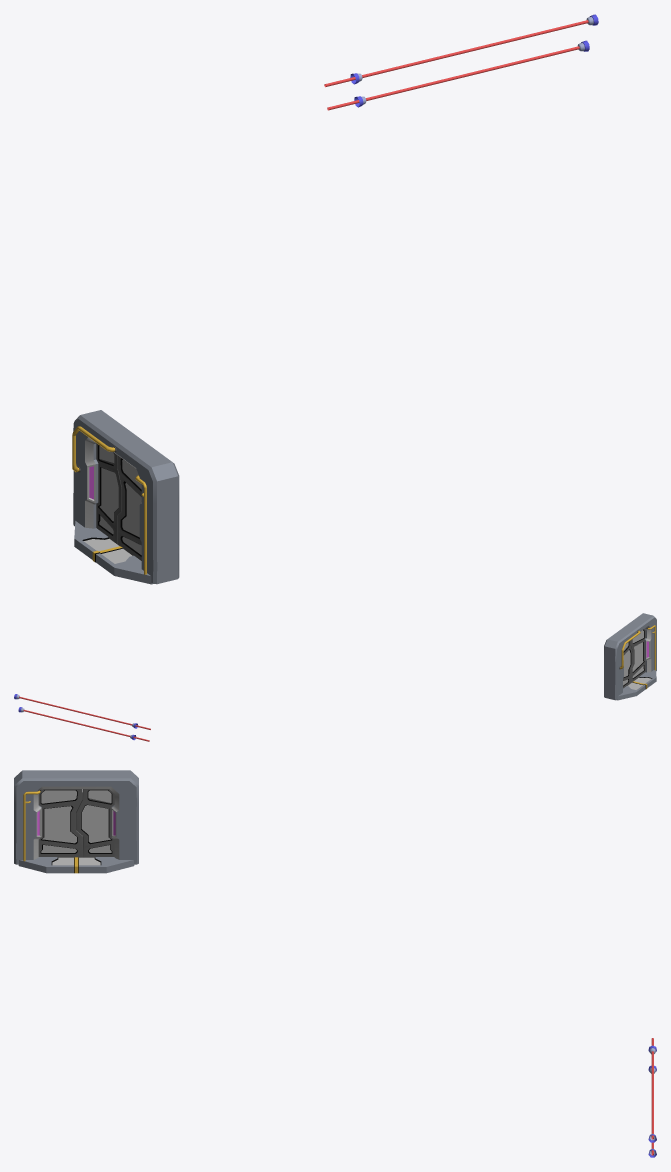
Rendered from Level27_Objects.fbx.
The picture shows the model from 3 angles, top to bottom: view 1: azimuth 30°, elevation 25°; view 2: azimuth 150°, elevation 25°; view 3: azimuth 270°, elevation 25°; orthographic projection. The views are drawn at different scales.
Visible parts, largest first — view 1: Base, Base5, Left, Right, Laser (×2); view 2: Base, Right, Laser (×2), Base5, Left; view 3: Base, Right, Left, Base5.
Boxes of the visible parts, x1=… form: Base: x1=73, y1=410, x2=179, y2=584; Base5: x1=74, y1=521, x2=152, y2=584; Left: x1=96, y1=443, x2=121, y2=543; Right: x1=117, y1=455, x2=141, y2=560; Laser (×2): x1=324, y1=20, x2=588, y2=110; Base: x1=604, y1=613, x2=656, y2=700; Right: x1=630, y1=629, x2=645, y2=682; Laser (×2): x1=19, y1=696, x2=150, y2=741; Base5: x1=617, y1=670, x2=656, y2=700; Left: x1=623, y1=641, x2=632, y2=688; Base: x1=14, y1=770, x2=138, y2=864; Right: x1=38, y1=789, x2=83, y2=857; Left: x1=76, y1=789, x2=114, y2=857; Base5: x1=18, y1=857, x2=134, y2=873.
Size of the model in its own units: 337 by 41.91 by 281.
